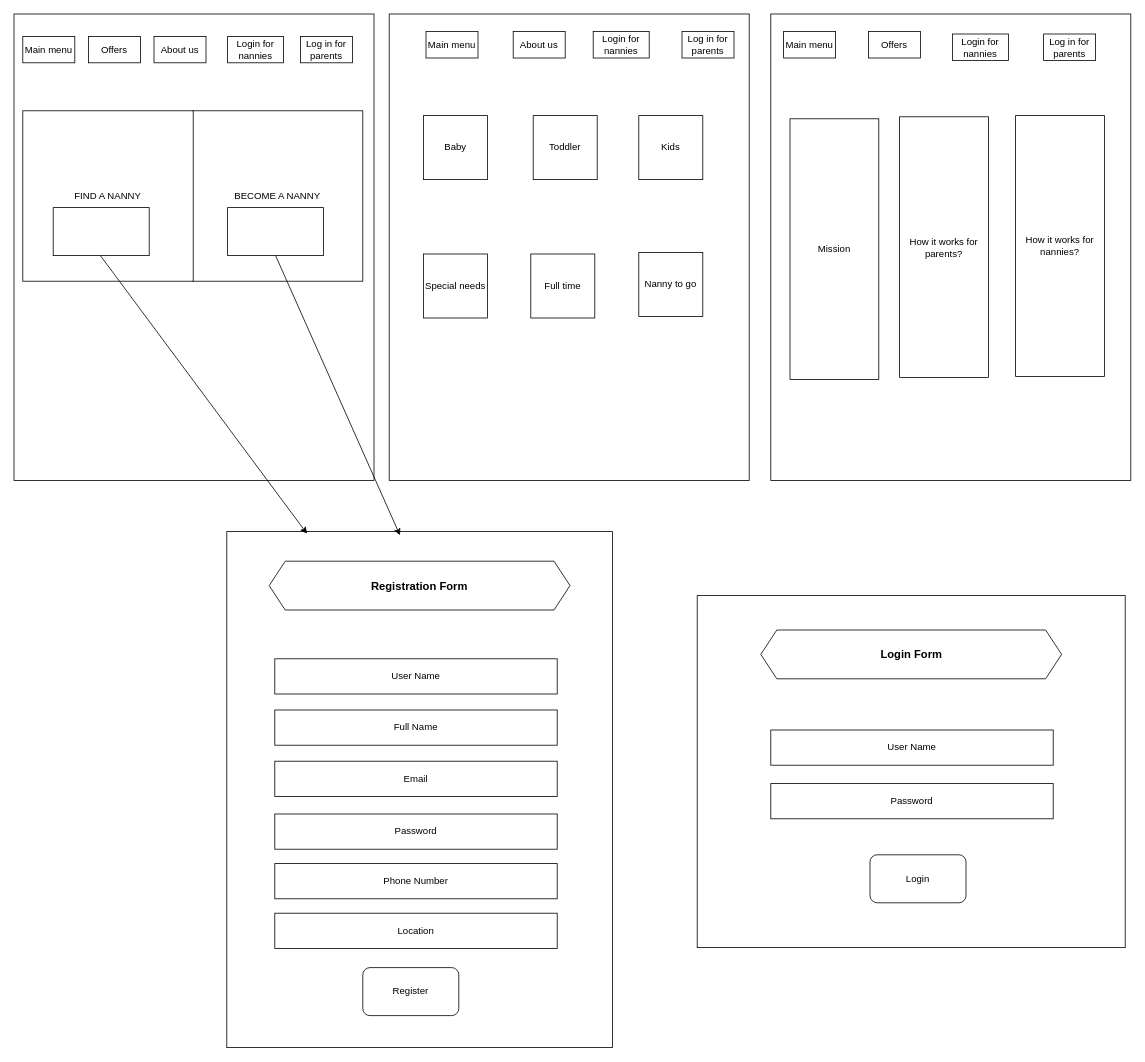
Image size: 1145x1062. Some labels were removed from this diagram. Here are the shapes that lost their labels. From the top down, the box of each, then its label:
(52, 207, 149, 256): Find child care
(227, 207, 324, 256): I am a nanny
